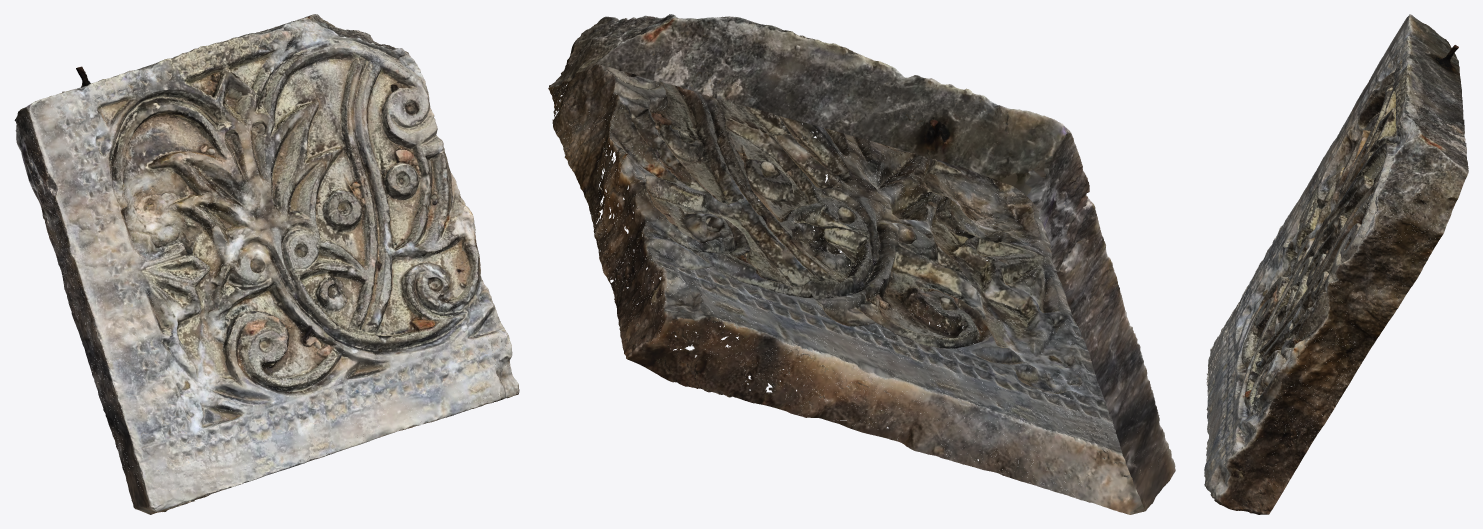
3 renders of one model, left to right at view 1: azimuth 30°, elevation 25°; view 2: azimuth 150°, elevation 25°; view 3: azimuth 270°, elevation 25°, orthographic. The views are drawn at different scales.
Parts seen in each view (by area): view 1: 2_2_u1_v1_0 (×8); view 2: 2_2_u1_v1_0 (×8); view 3: 2_2_u1_v1_0 (×8).
Part boxes in pixels (x1,y1,x2,y2): 2_2_u1_v1_0 (×8): (14,14,519,514); 2_2_u1_v1_0 (×8): (548,14,1175,514); 2_2_u1_v1_0 (×8): (1204,14,1468,514).
Size of the model in its own units: 5.58 by 5.03 by 3.29.
Materials: 1 (1 with a texture image).
